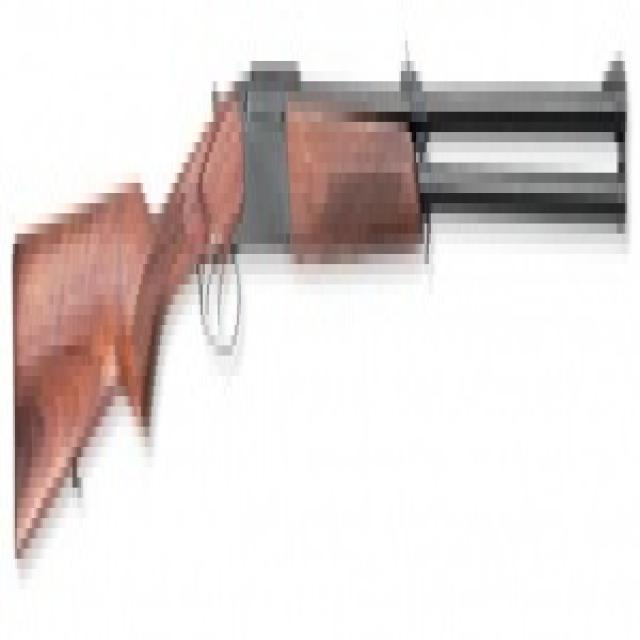rifle: (11, 20, 635, 565)
